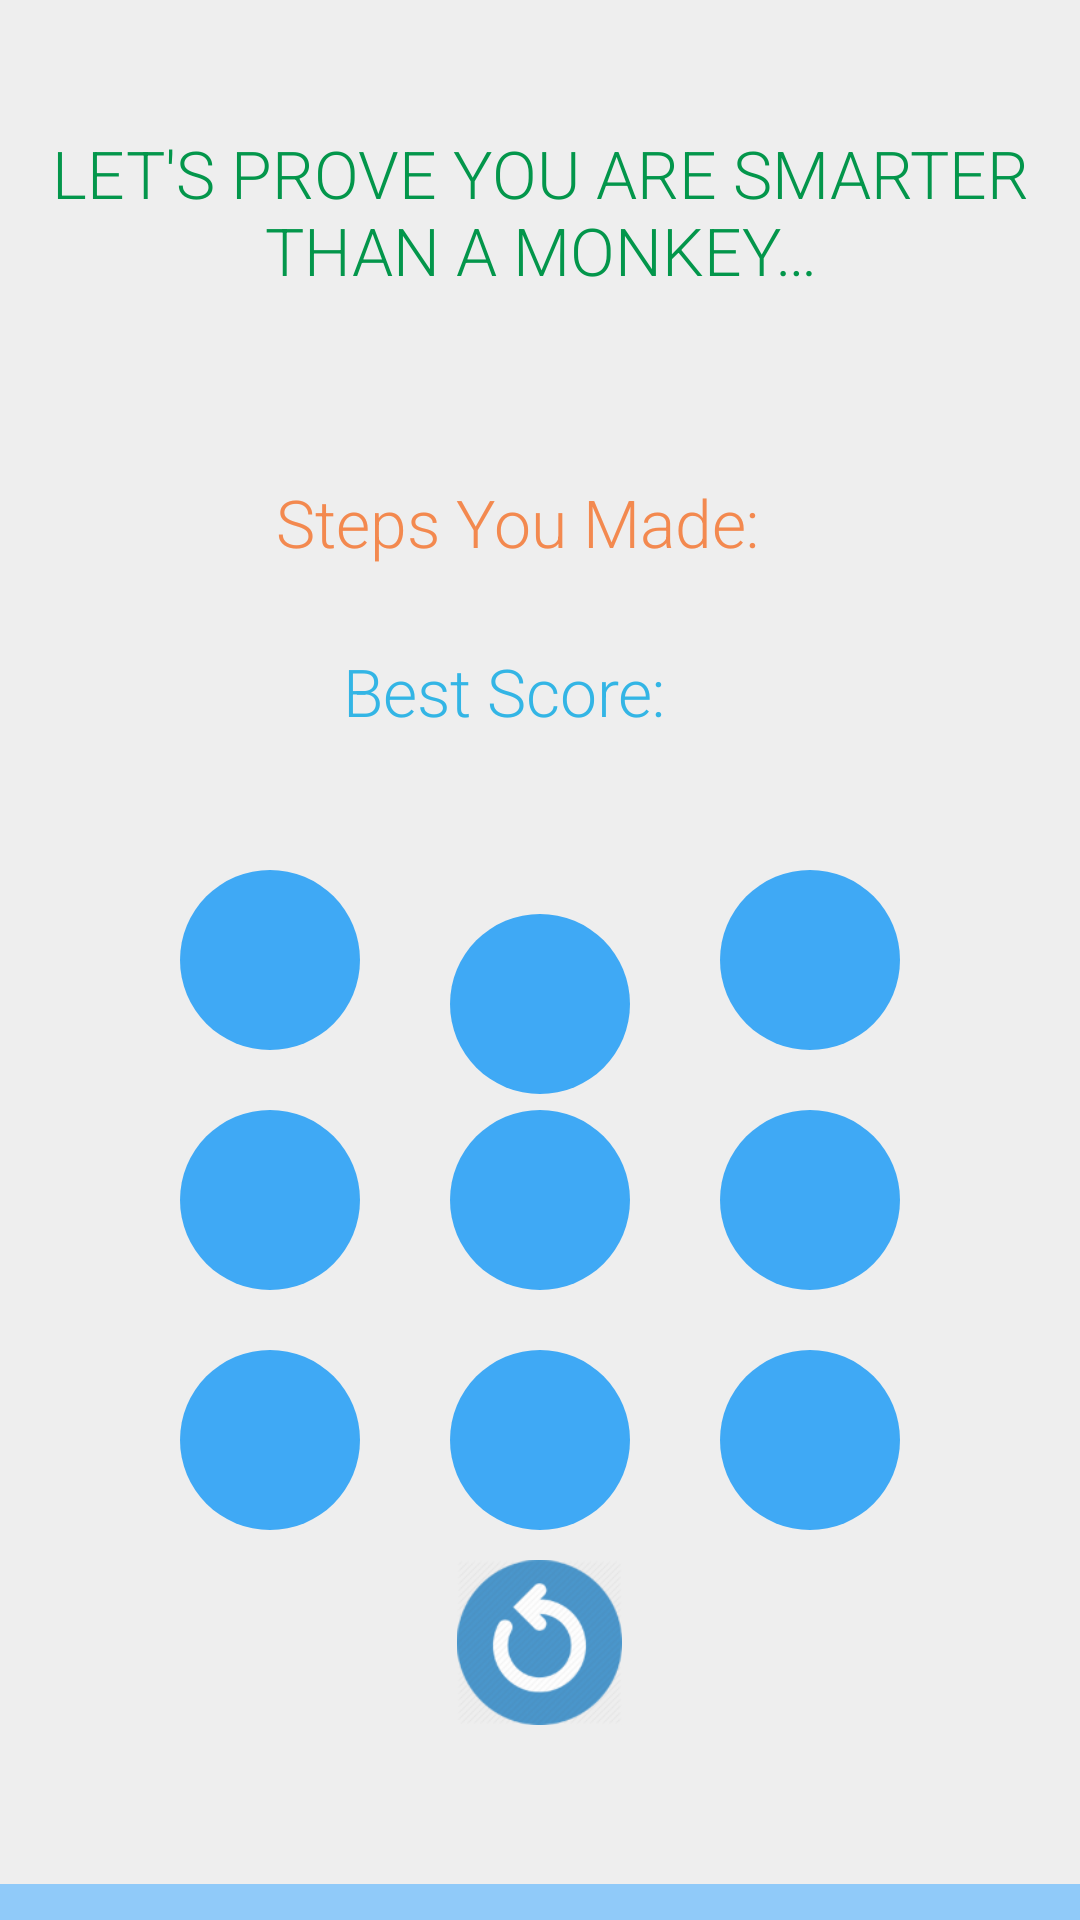

Where to tap for icons on this 1080 x 1920 app screen, as point (x, y):
reset Input: point (539, 1642)
